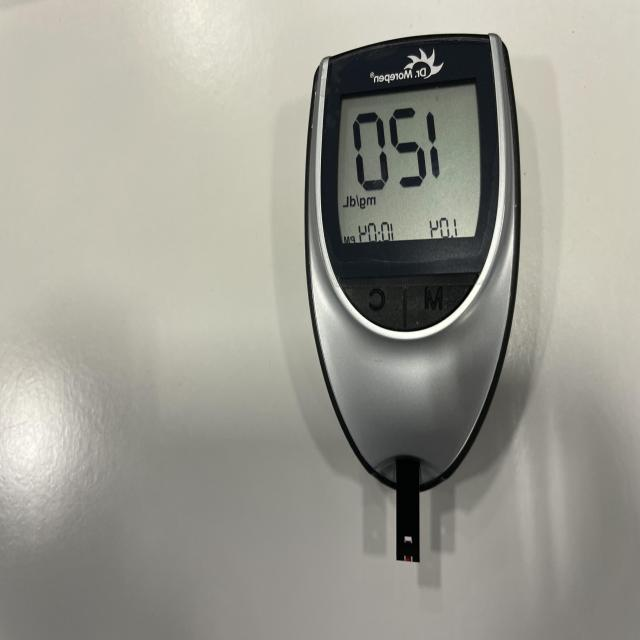gluco: (305, 34, 521, 559)
